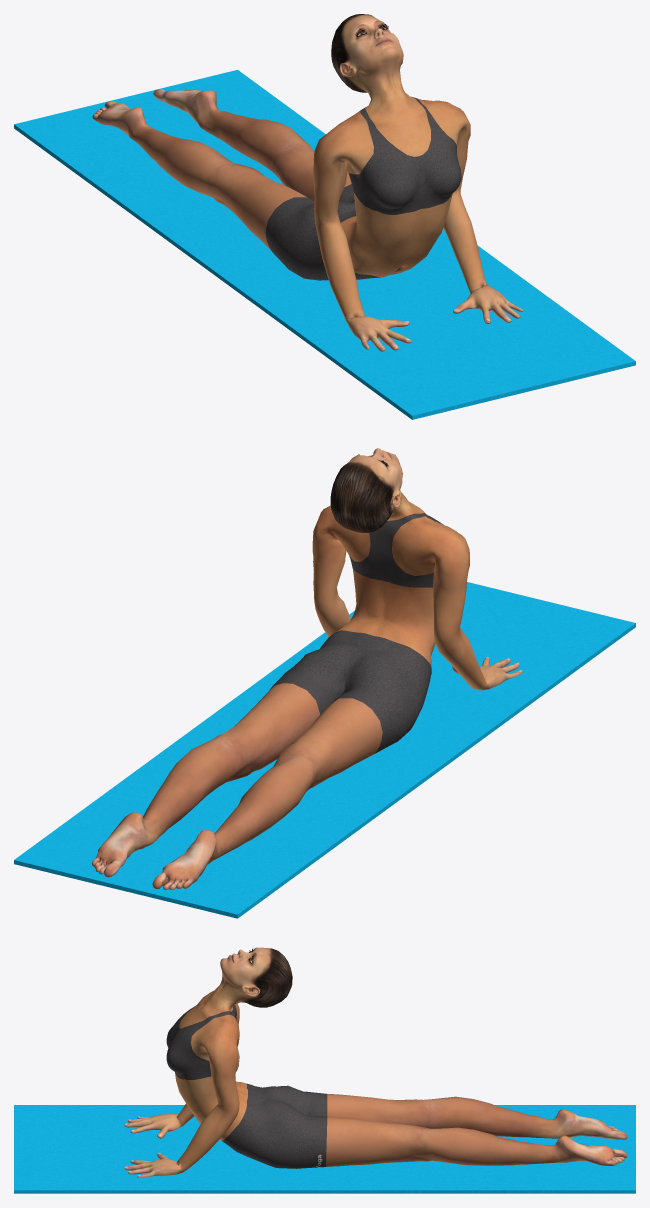
The model's file is bujangasana.glb.
3 views of the same model, one above another, from view 1: azimuth 30°, elevation 25°; view 2: azimuth 150°, elevation 25°; view 3: azimuth 270°, elevation 25° (orthographic). The views are drawn at different scales.
Parts seen in each view (by area): view 1: mat_001-material, FemaleSkin-material; view 2: FemaleSkin-material, mat_001-material; view 3: FemaleSkin-material, mat_001-material.
Part boxes in pixels (left/top/right/bottom): mat_001-material: left=14, top=70, right=635, bottom=419; FemaleSkin-material: left=92, top=14, right=523, bottom=351; FemaleSkin-material: left=91, top=448, right=522, bottom=889; mat_001-material: left=14, top=582, right=635, bottom=918; FemaleSkin-material: left=124, top=947, right=627, bottom=1177; mat_001-material: left=14, top=1105, right=635, bottom=1193.
Bounding box in the file's own units: 2 × 2.2 × 6.17.
Materials: 2 (2 with a texture image).
